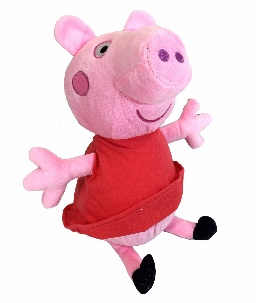Peppa: (23, 13, 219, 294)
